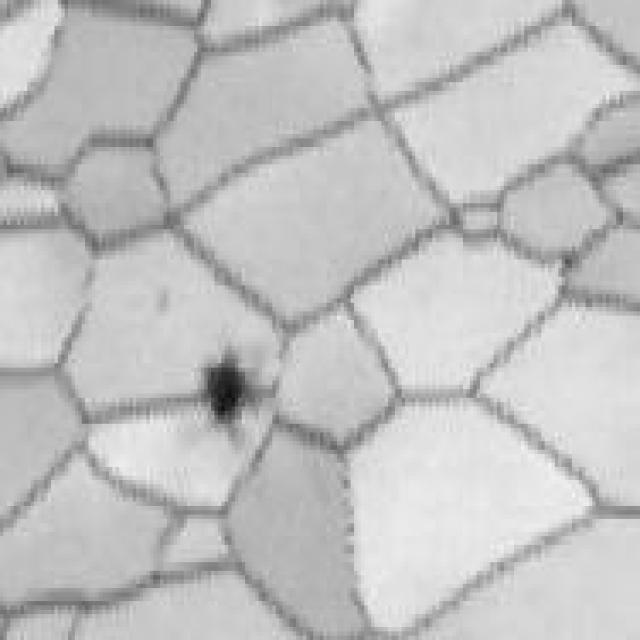good_void: (194, 358, 264, 445)
